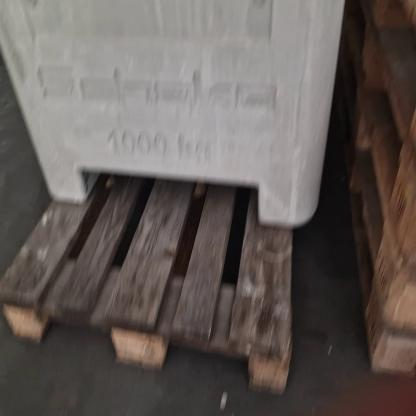BoxFace: (0, 201, 295, 396)
